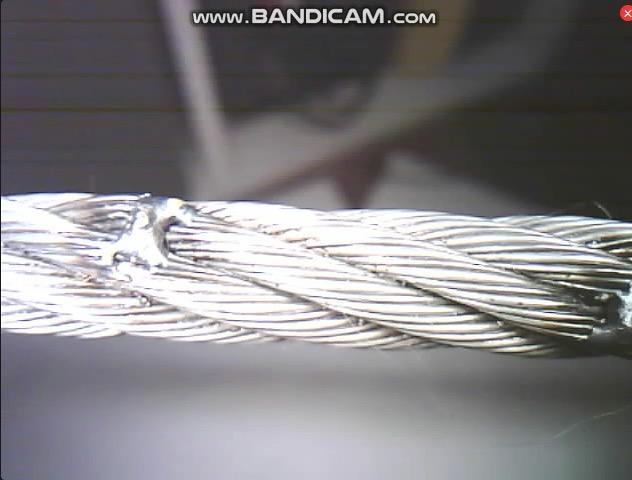thunderbolt: (98, 191, 224, 274)
